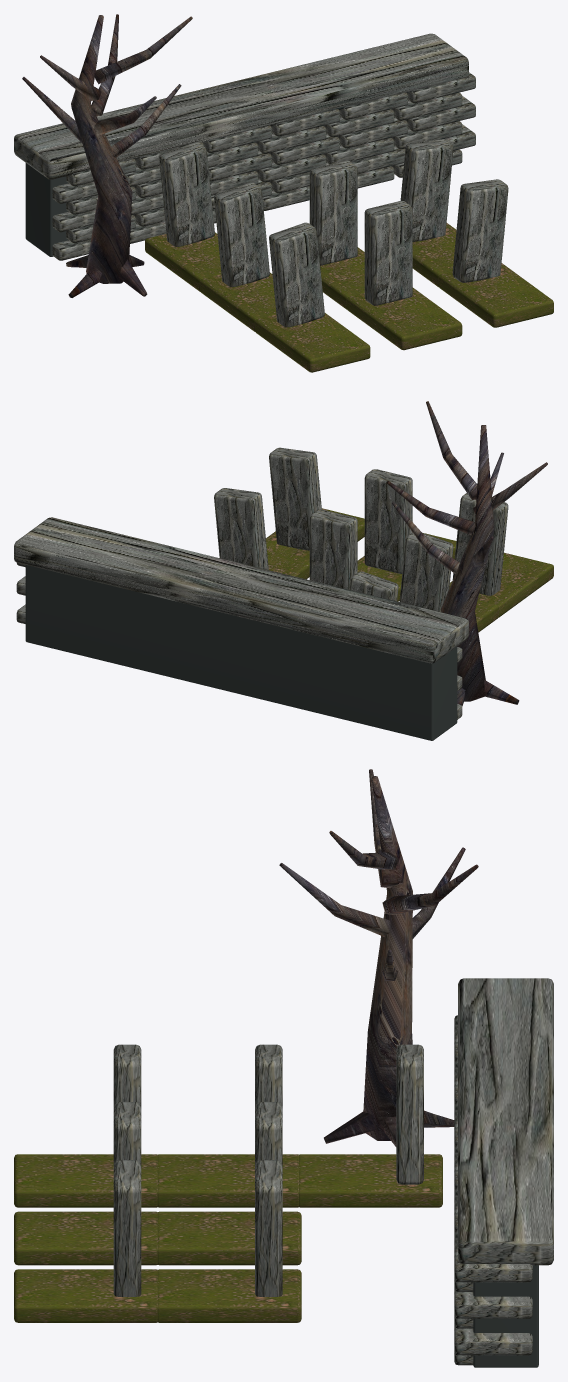
File: env-site-graveyard.glb
3 renders of one model, top to bottom at view 1: azimuth 30°, elevation 25°; view 2: azimuth 150°, elevation 25°; view 3: azimuth 270°, elevation 25°, orthographic. The views are drawn at different scales.
Visible parts, largest first — view 1: site graveyard · authored textured miniature; view 2: site graveyard · authored textured miniature; view 3: site graveyard · authored textured miniature.
Boxes of the visible parts, left/top/right/bottom form: site graveyard · authored textured miniature: left=14, top=14, right=553, bottom=372; site graveyard · authored textured miniature: left=14, top=401, right=553, bottom=740; site graveyard · authored textured miniature: left=14, top=769, right=553, bottom=1367.
Size of the model in its own units: 1.38 by 0.7681 by 1.07.
4 materials, 3 textured.
